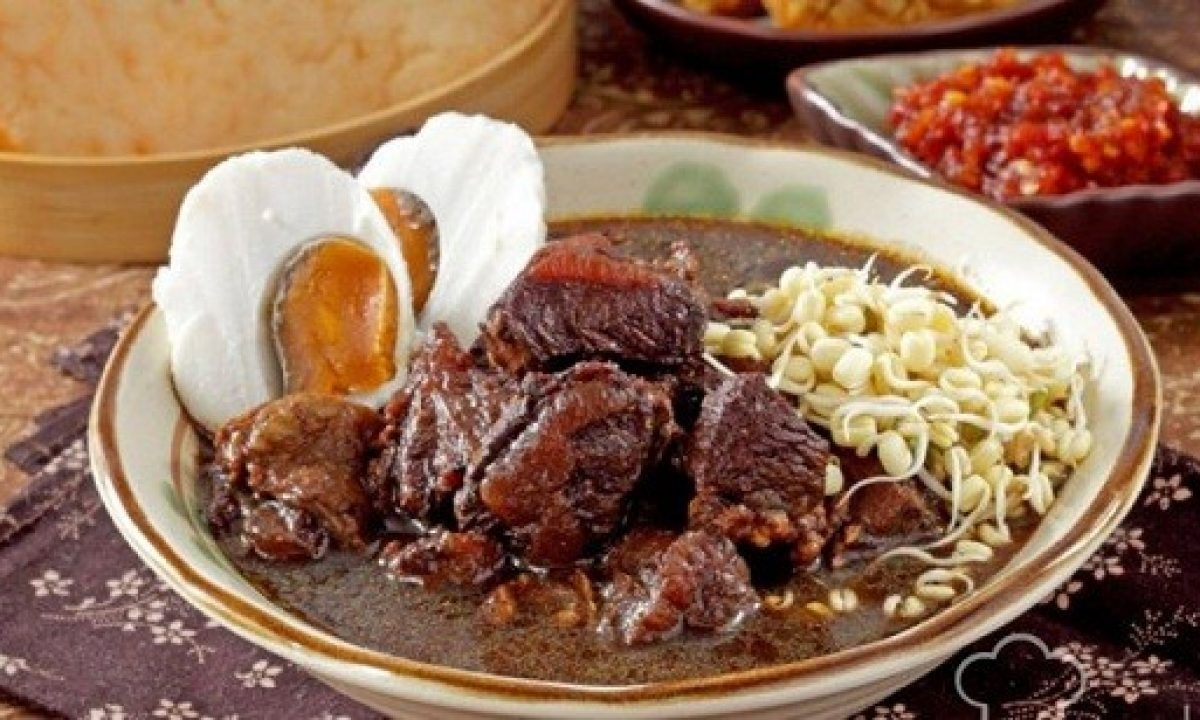rawon: (102, 174, 1114, 617)
